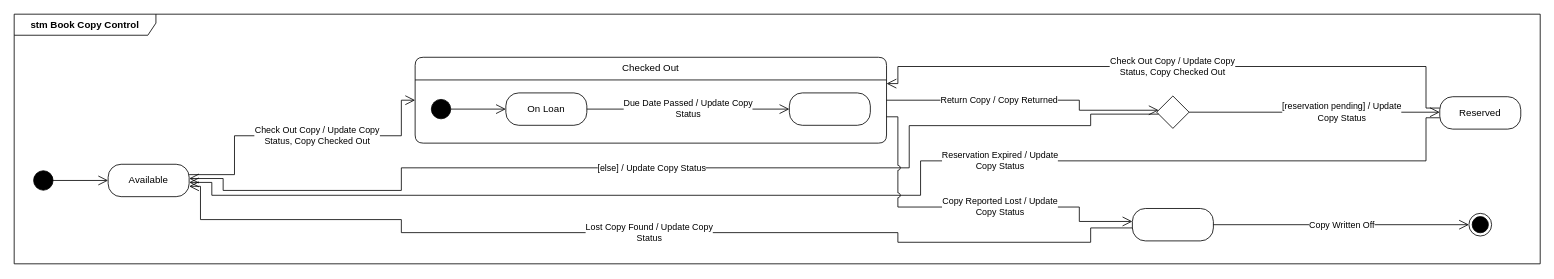
Some shapes in this 1554 by 279 pixel diagram are drawn without their labels. The centre of each missing label's shape, as x and y in pixels:
Lost: (1172,224)
Overdue: (829,108)
